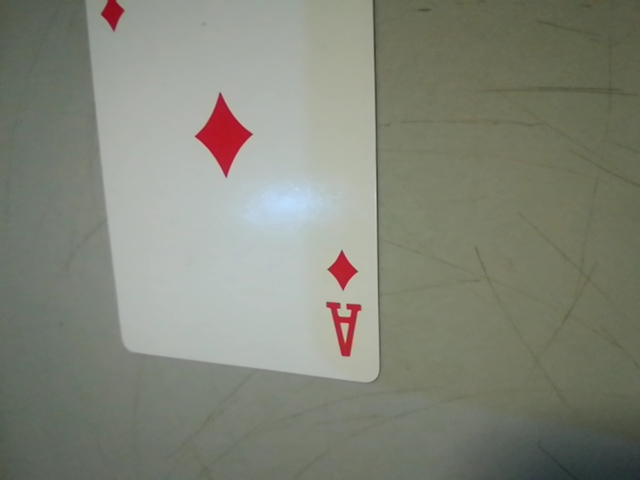fk a: (313, 237, 372, 371)
